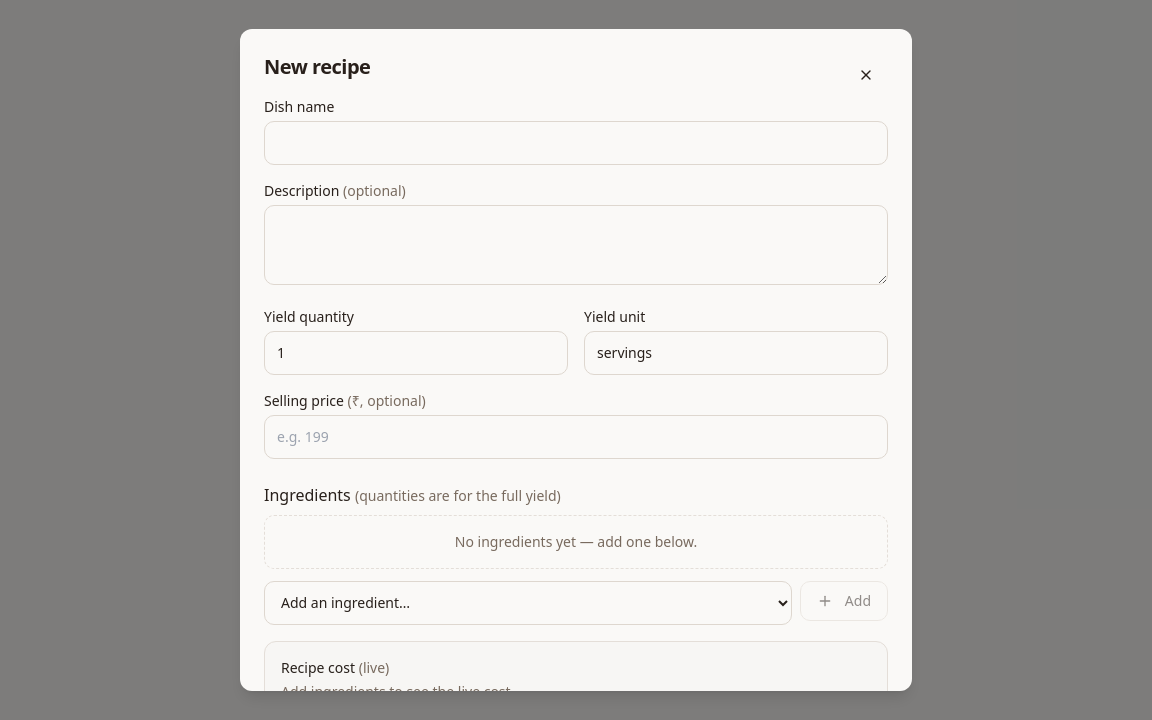
Scenario: RecipeDialog › shows a live cost preview as ingredients are added
Type "Cost Curry" into the field labelled "Dish name" at (576, 143), box x1=264 y1=121 x2=888 y2=165
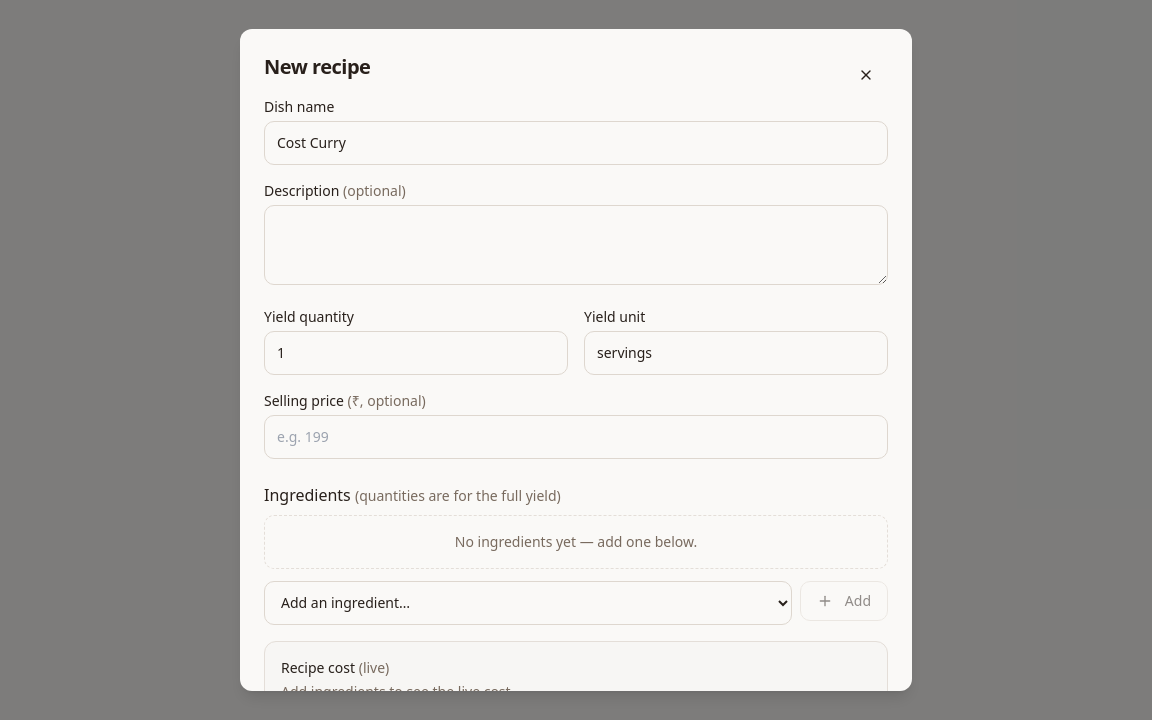
Replace the text in the number field labelled "Yield quantity" with "4" at (416, 353), box x1=264 y1=331 x2=568 y2=375
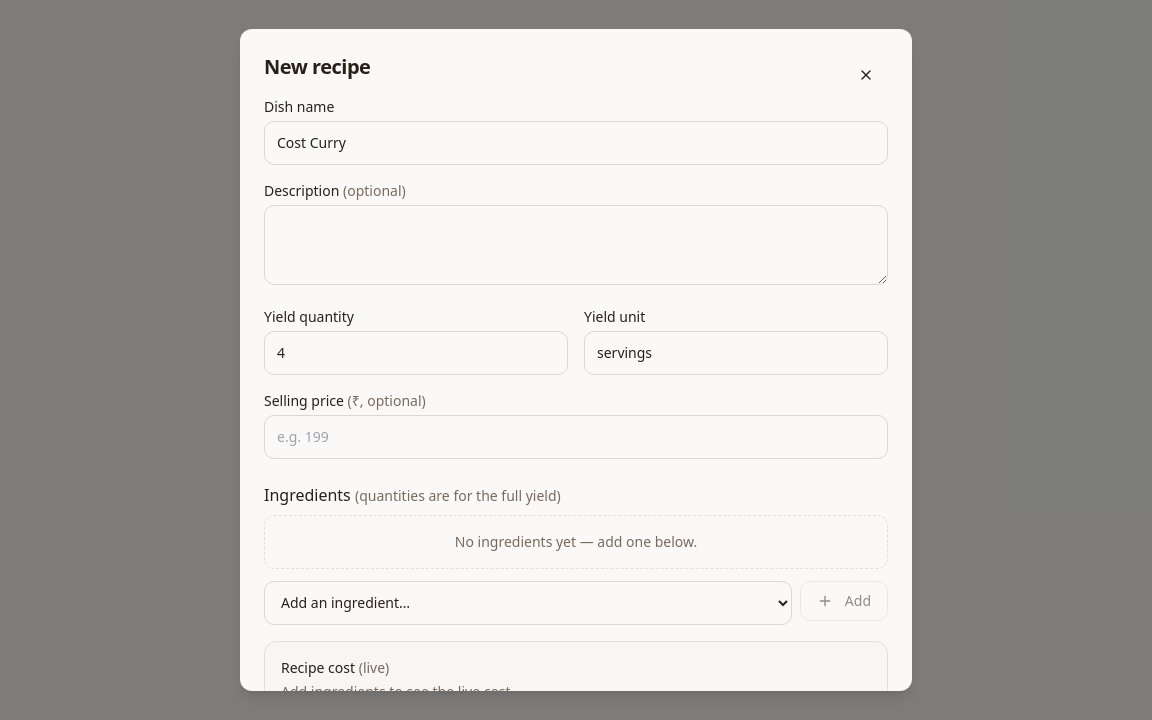
Select "Tomato (kg)" in the dropdown named "Add ingredient" at (528, 603), box x1=264 y1=581 x2=792 y2=625
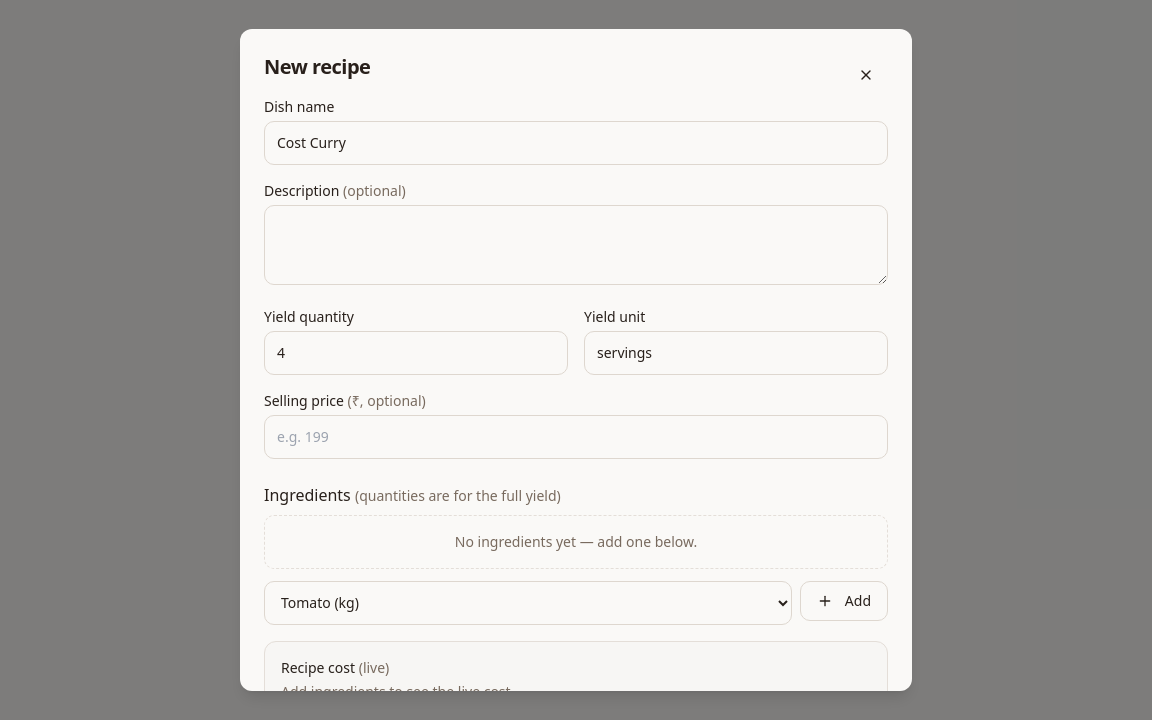
Click the button "Add" at (844, 601), box x1=800 y1=581 x2=888 y2=621
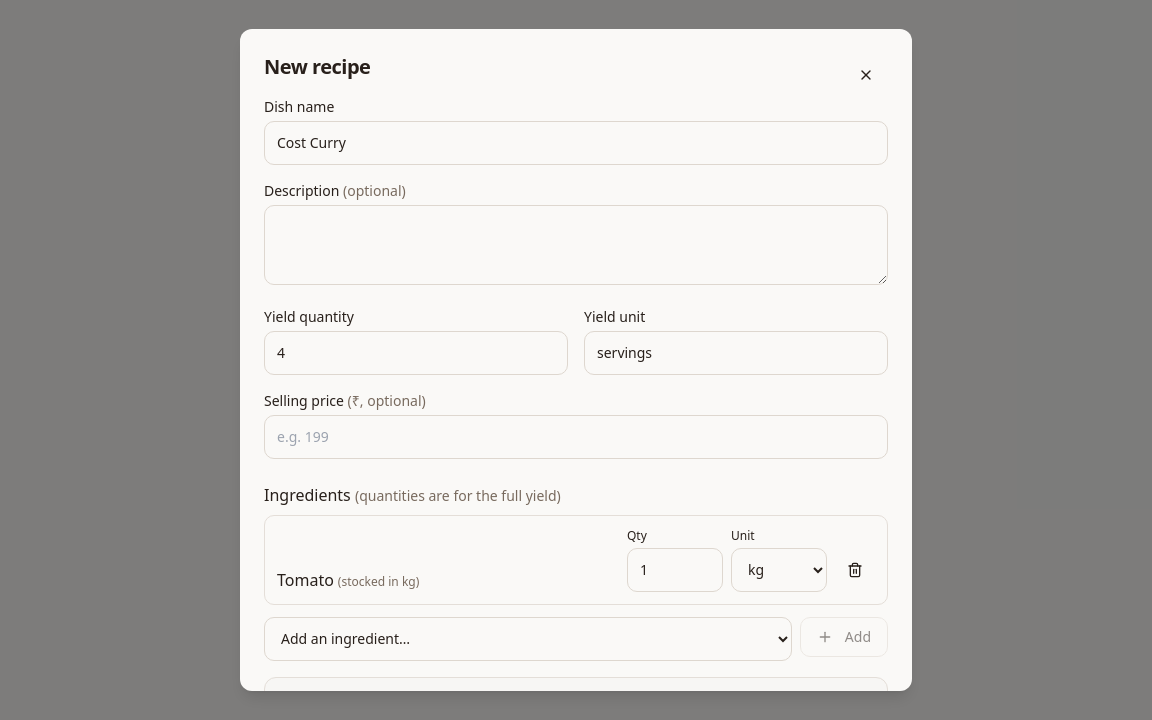
Replace the text in the number field named "Quantity for Tomato" with "2" at (675, 570), box x1=627 y1=548 x2=723 y2=592
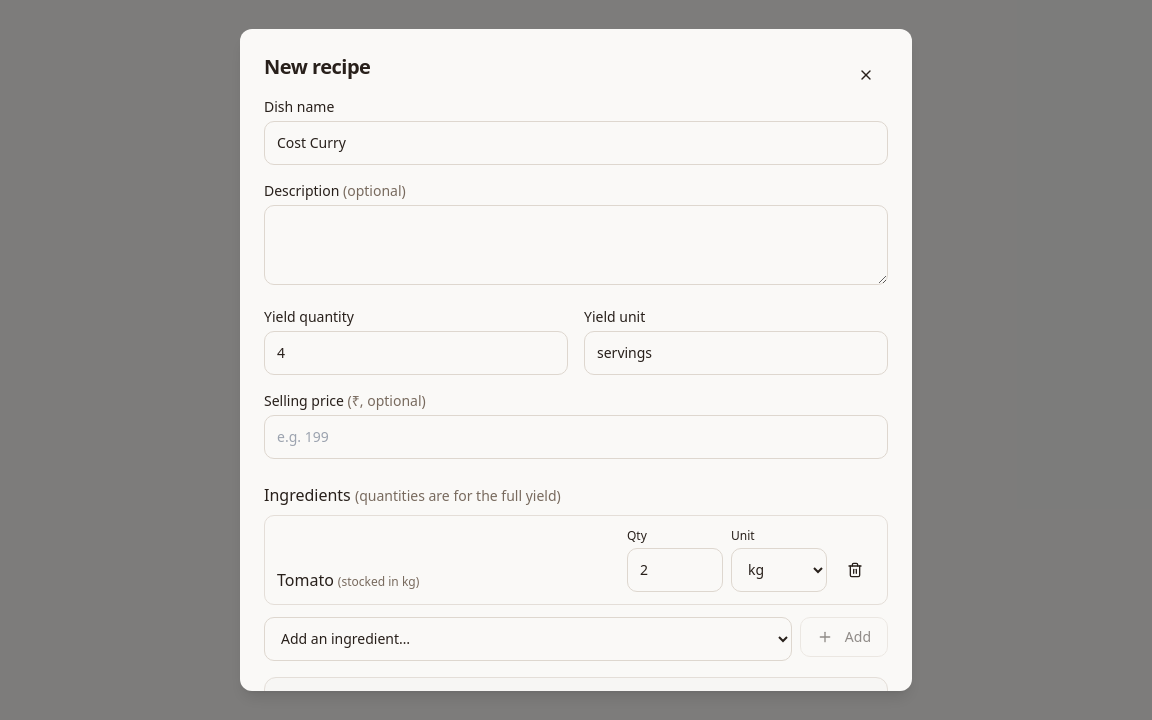
Type "130" into the number field labelled "Selling price (₹, optional)" at (576, 437), box x1=264 y1=415 x2=888 y2=459
(page scrolled)
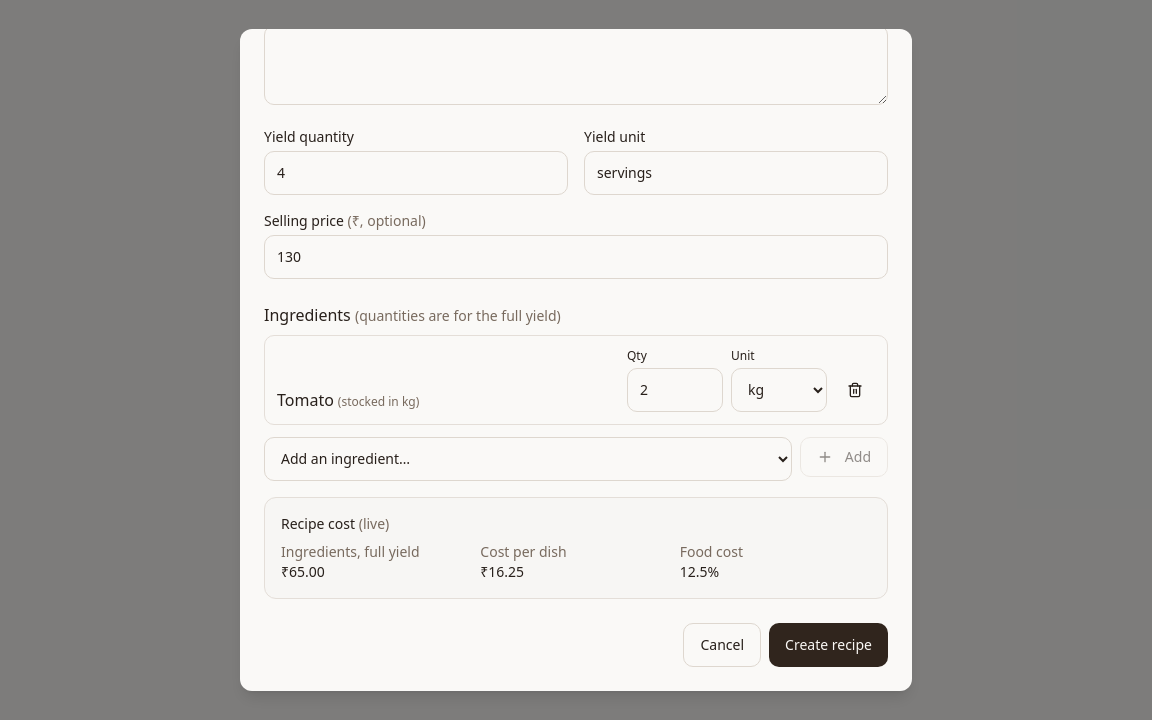
Result: the text "12.5%" is shown at x1=680 y1=562 x2=719 y2=581
